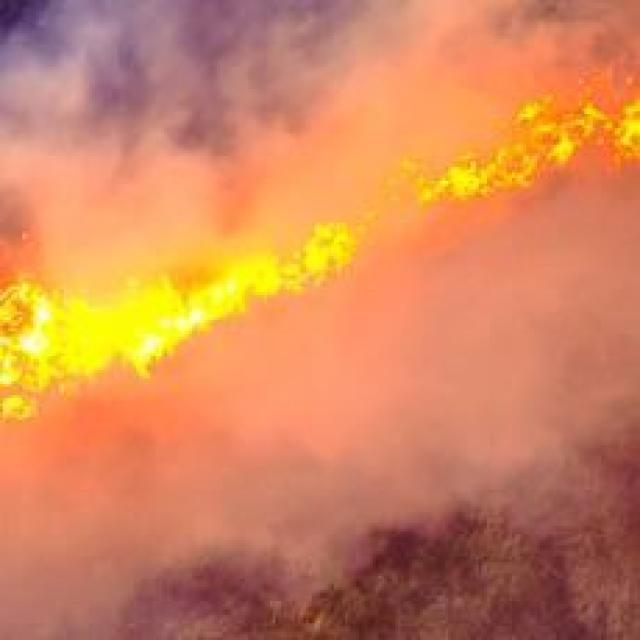Fire: (1, 211, 358, 394), (440, 68, 634, 222)
Smoke: (8, 12, 473, 238), (39, 356, 332, 640), (408, 221, 614, 467)
